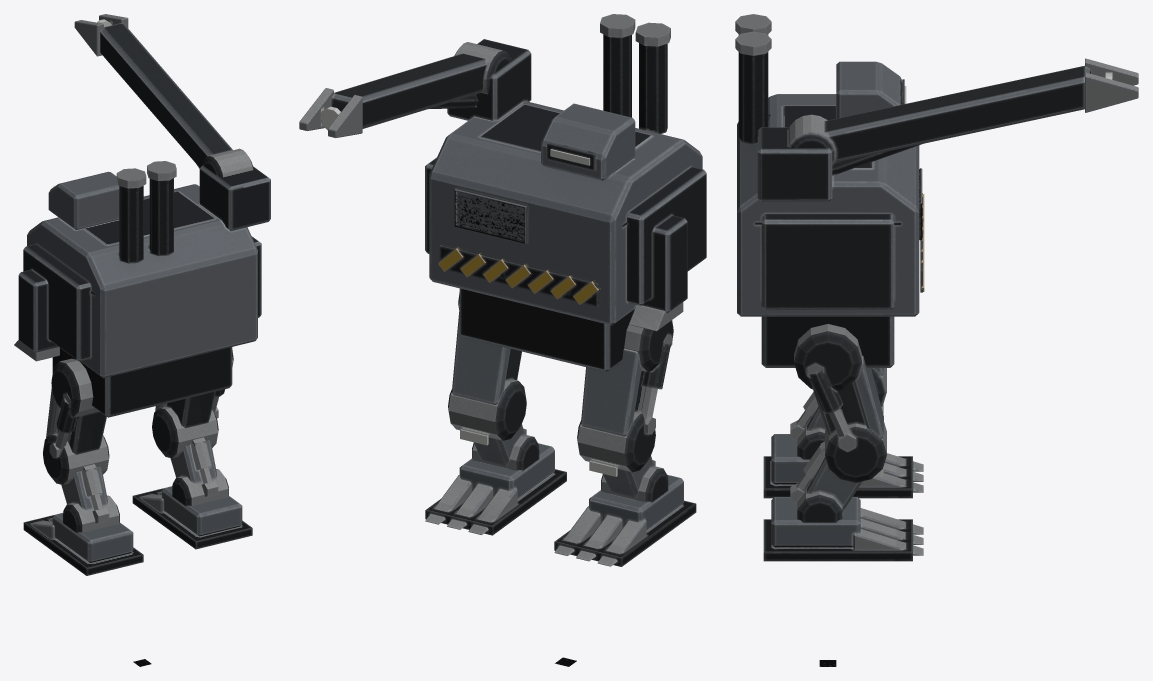
The model's file is chs_taskmaster.fbx.
The picture shows the model from 3 angles, left to right: view 1: azimuth 30°, elevation 25°; view 2: azimuth 150°, elevation 25°; view 3: azimuth 270°, elevation 25°; orthographic projection. The views are drawn at different scales.
Visible parts, largest first — view 1: torso_bar, nano_bar, base_bar, thighL_bar, footR_bar, footL_bar, thighR_bar, shinL_bar, shinR_bar; view 2: torso_bar, thighL_bar, nano_bar, base_bar, footL_bar, footR_bar, thighR_bar, shinL_bar, shinR_bar; view 3: torso_bar, nano_bar, thighR_bar, footR_bar, base_bar, footL_bar, shinR_bar, shinL_bar.
Boxes of the visible parts, x1,y1,x2,y2 form: torso_bar: (14,161,270,378); nano_bar: (74,14,253,177); base_bar: (52,347,232,417); thighL_bar: (43,358,109,484); footR_bar: (132,486,252,549); footL_bar: (23,513,143,575); thighR_bar: (152,350,233,458); shinL_bar: (61,464,119,532); shinR_bar: (170,437,228,506); torso_bar: (425,14,706,331); thighL_bar: (577,320,673,472); nano_bar: (299,42,510,137); base_bar: (459,288,634,371); footL_bar: (554,474,696,566); footR_bar: (425,443,566,535); thighR_bar: (448,293,526,440); shinL_bar: (601,456,668,502); shinR_bar: (472,424,539,470); torso_bar: (735,14,924,316); nano_bar: (788,58,1138,175); thighR_bar: (794,324,886,482); footR_bar: (763,497,923,561); base_bar: (761,316,894,367); footL_bar: (763,434,923,498); shinR_bar: (790,441,862,522); shinL_bar: (790,392,825,459).
Bounding box in the file's own units: 340 × 855 × 487.
Materials: 2 (2 with a texture image).
